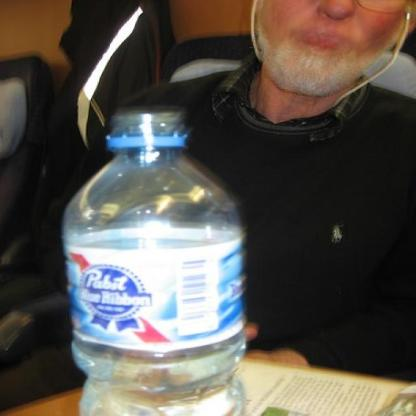Plastic Bottle: (62, 110, 246, 412)
